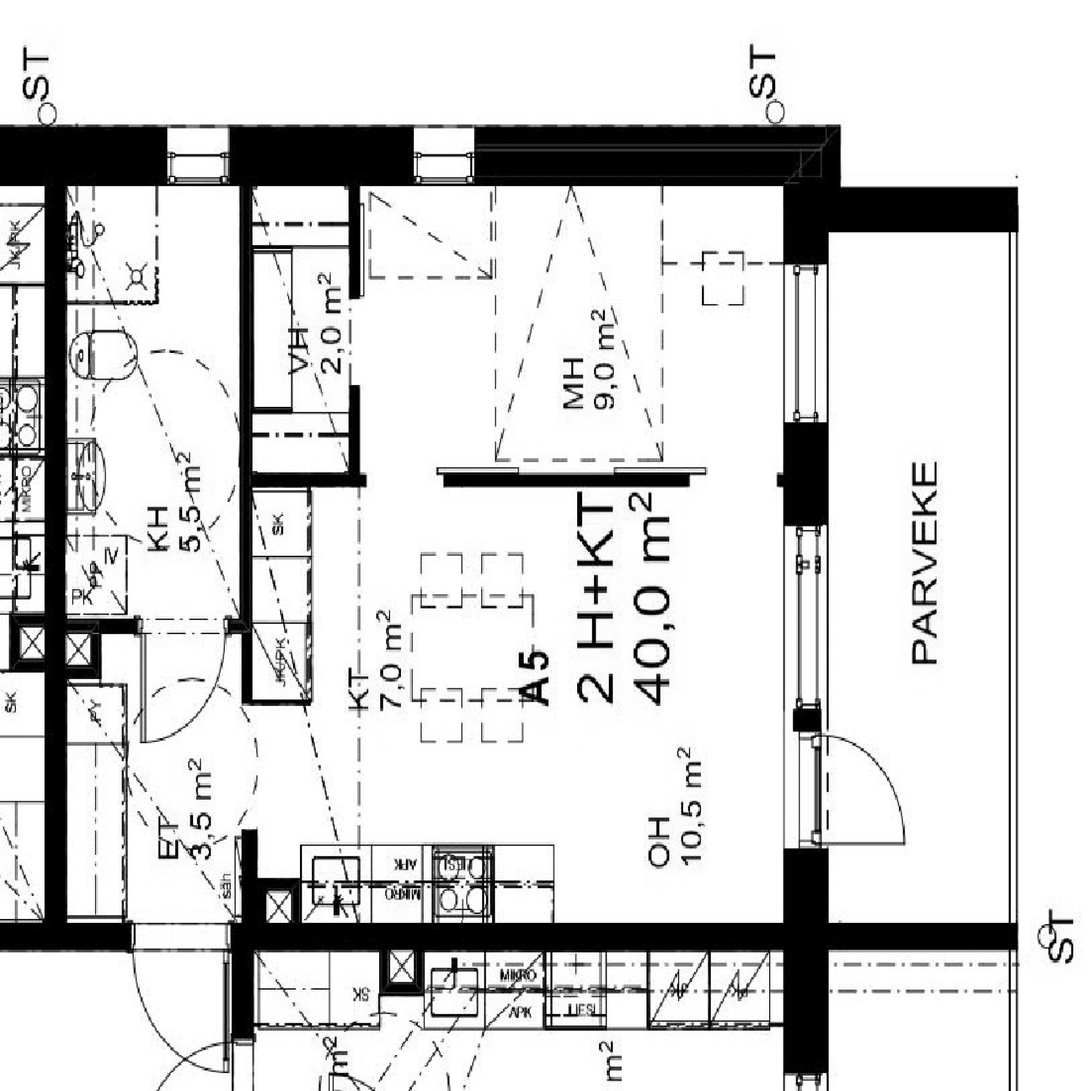wall: (45, 126, 840, 185), (784, 232, 828, 950), (45, 923, 828, 950), (44, 126, 65, 950), (783, 187, 1017, 232), (783, 126, 840, 232), (241, 126, 251, 705), (828, 923, 1017, 950), (443, 473, 690, 488), (45, 619, 101, 684), (101, 619, 251, 634), (257, 878, 301, 923), (349, 126, 360, 298), (251, 473, 366, 488), (241, 830, 257, 924), (349, 386, 360, 488), (769, 473, 828, 488)
